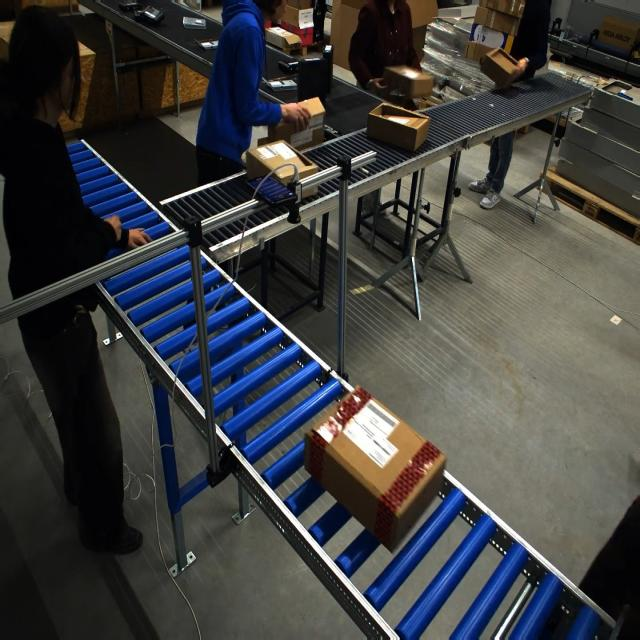box: (319, 394, 444, 543), (244, 131, 321, 188), (258, 97, 326, 159), (366, 102, 428, 153), (481, 46, 524, 90), (383, 64, 434, 100)
product: (138, 5, 165, 24), (265, 78, 296, 91), (277, 59, 299, 73), (183, 16, 206, 29), (195, 39, 219, 51), (118, 1, 142, 12), (301, 57, 322, 62)
